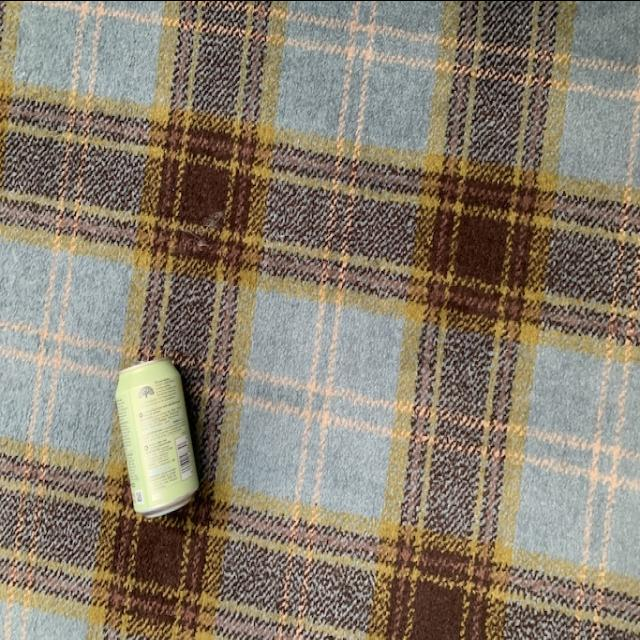litter: (111, 348, 206, 526)
